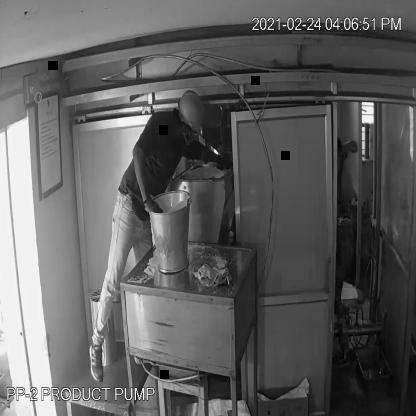helmet: (173, 79, 208, 140)
